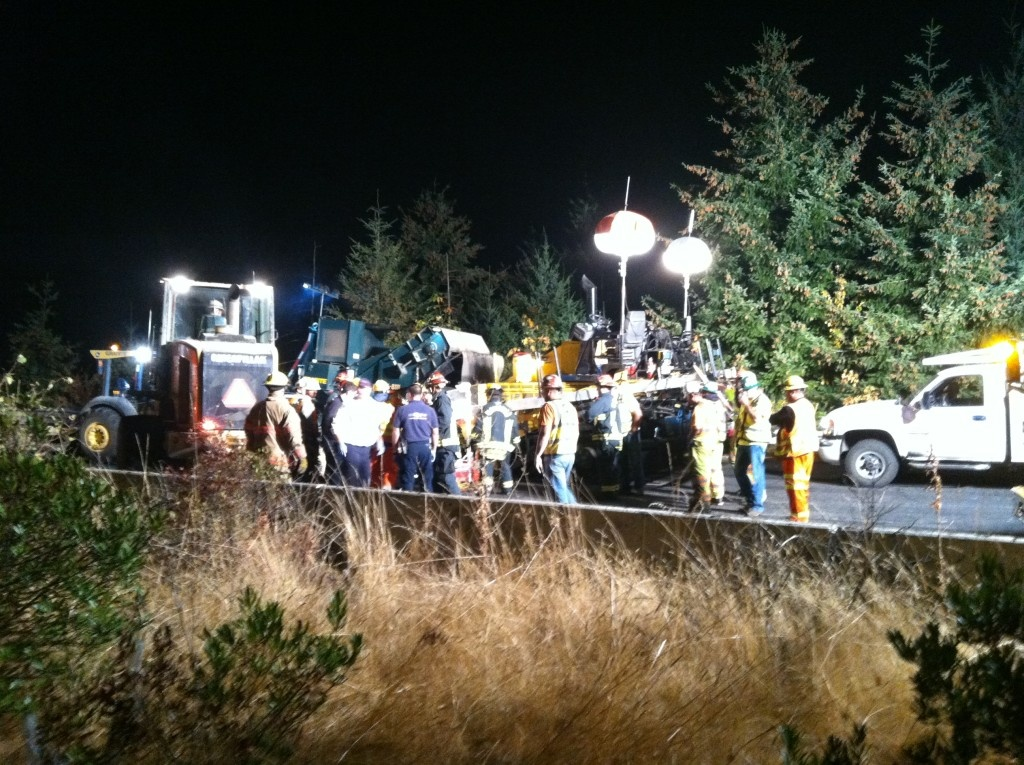none: (405, 384, 423, 402), (339, 381, 356, 400)
red: (540, 373, 563, 400), (596, 373, 614, 394), (427, 373, 444, 393)
white: (682, 381, 701, 403), (303, 377, 321, 397), (205, 299, 223, 317)
yellow: (782, 375, 806, 402), (265, 369, 287, 394), (485, 382, 503, 402), (372, 380, 388, 400)
